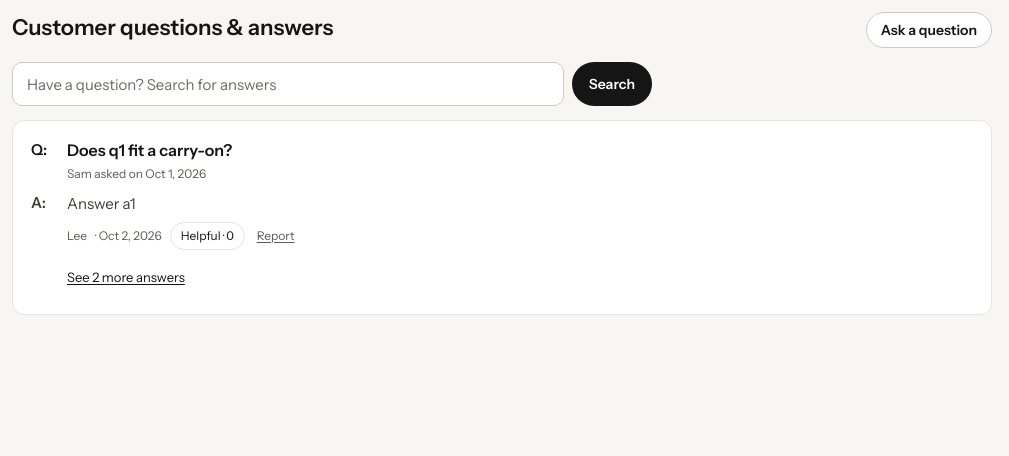
it: reports someone else’s answer once; not your own, and not signed out
The image size is (1009, 456).
What coordinates should you click on to do the following:
click the button "See 2 more answers"
I would click on:
 (126, 278)
Its box is [67,260,185,296].
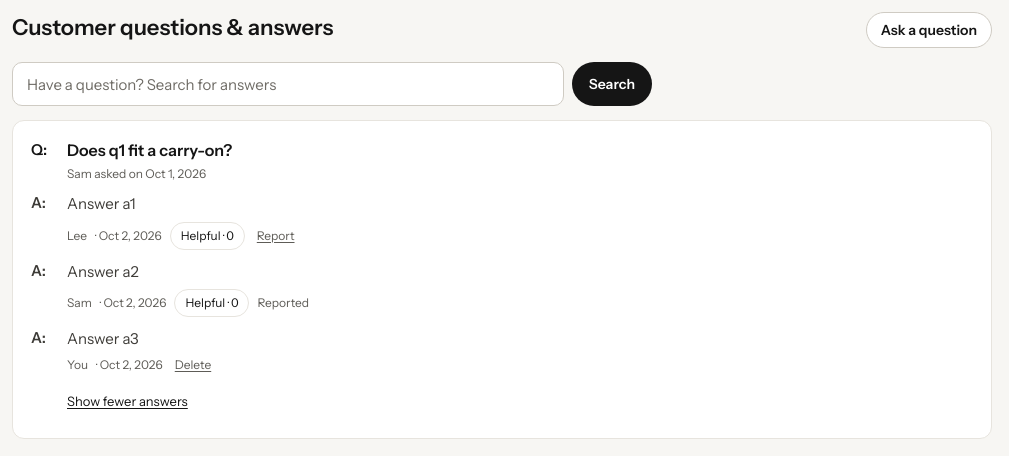
Check: the number of buttons "Report" is 1
Check: the text "Reported" is shown, box [258,294,309,312]
What coordinates should you click on to do the following:
click the button with aria-label "Report Lee’s answer"
I would click on:
 (276, 236)
Its box is [253,227,298,244].
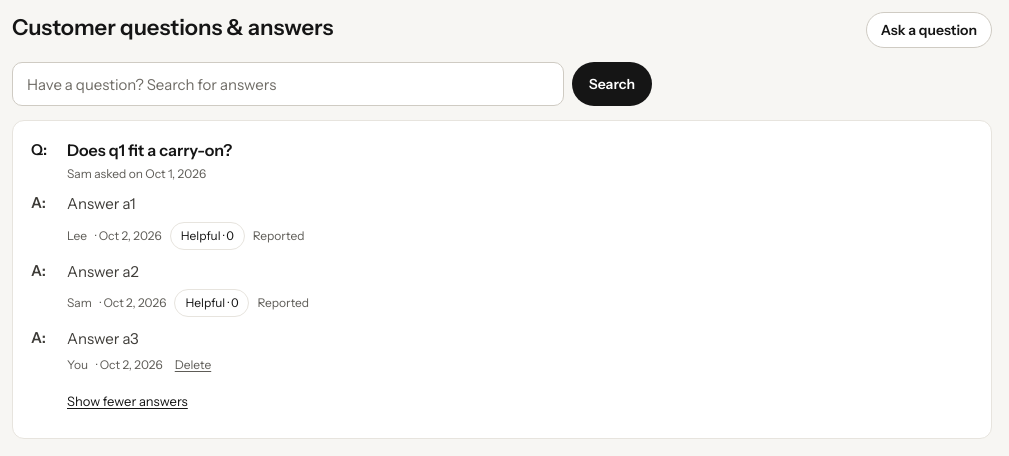
Check: the text "Reported" is shown 2 times, box [253,227,304,244]; [258,294,309,312]
